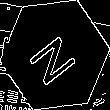N_NE: (26, 24, 84, 86)
